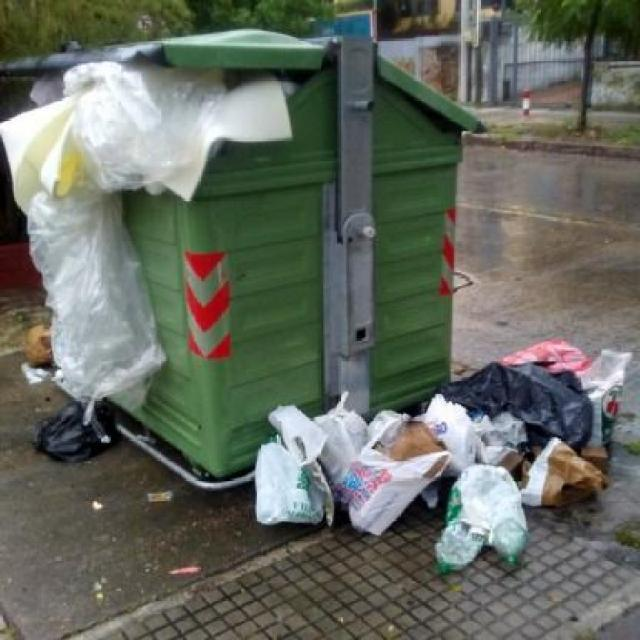garbage: (249, 399, 602, 568), (14, 85, 174, 424), (474, 331, 626, 505), (175, 79, 306, 142), (21, 406, 124, 486)
